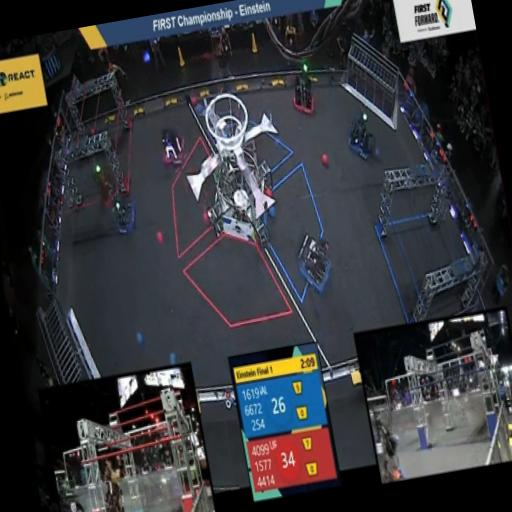robot: (286, 224, 340, 300), (338, 108, 380, 170), (150, 114, 191, 176), (84, 158, 126, 214), (282, 66, 320, 124), (105, 192, 147, 240)
